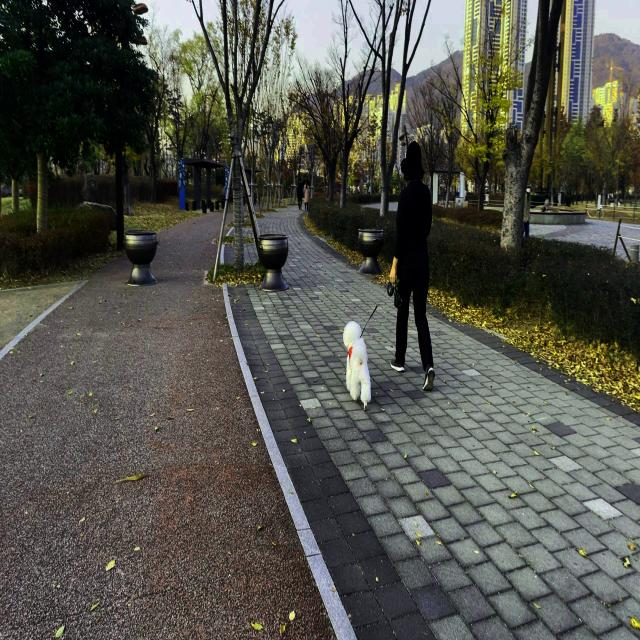Leashed_Dog: (342, 272, 404, 412)
